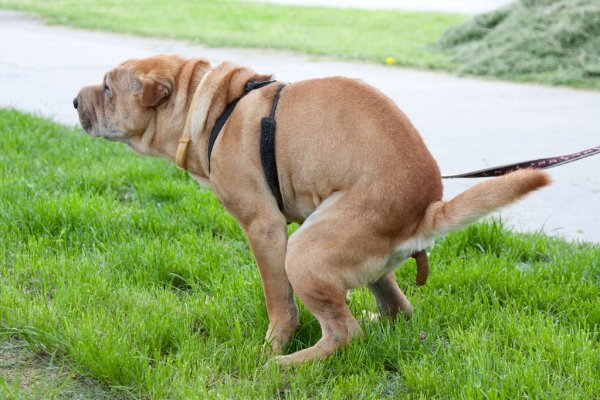dog_pooping: (68, 50, 559, 371)
